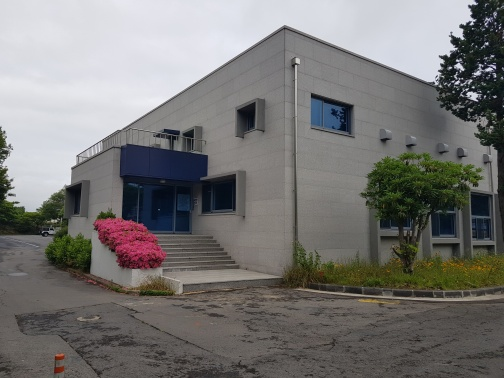College of Social Sciences: (56, 33, 503, 297)
